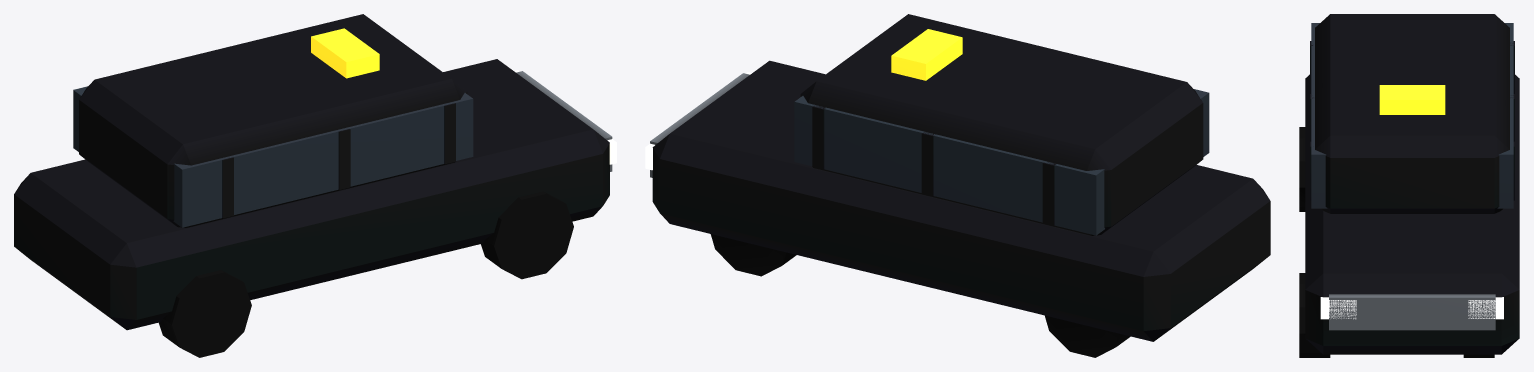
The model's file is ld_cab-CsByvTL2.glb.
3 renders of one model, left to right at view 1: azimuth 30°, elevation 25°; view 2: azimuth 150°, elevation 25°; view 3: azimuth 270°, elevation 25°, orthographic. The views are drawn at different scales.
Bounding box in the file's own units: 4.55 × 1.87 × 1.85.
